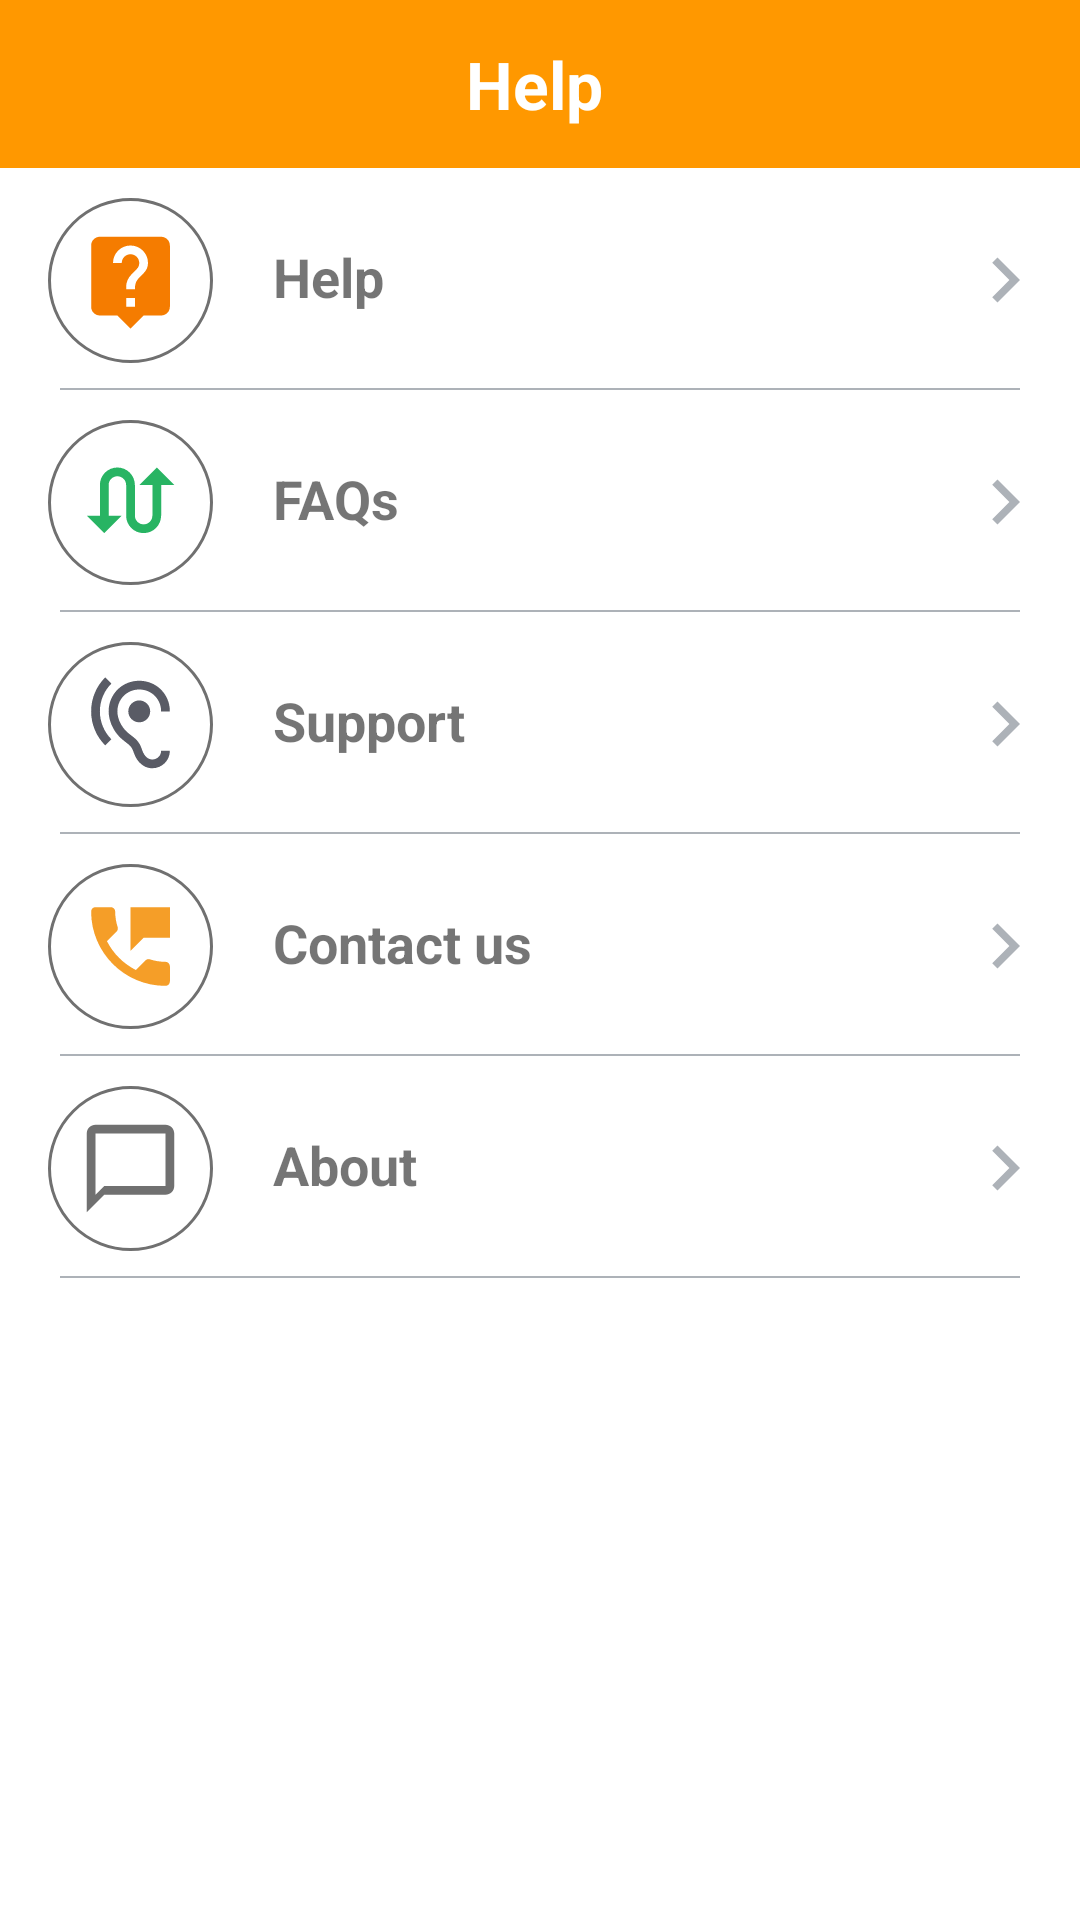

Where to tap for icons on this 1080x1920 app screen, as [x,y]:
help contact: [130,946]
right arrow: [1006,280], [1006,502], [1006,724], [1006,946], [1006,1168]
